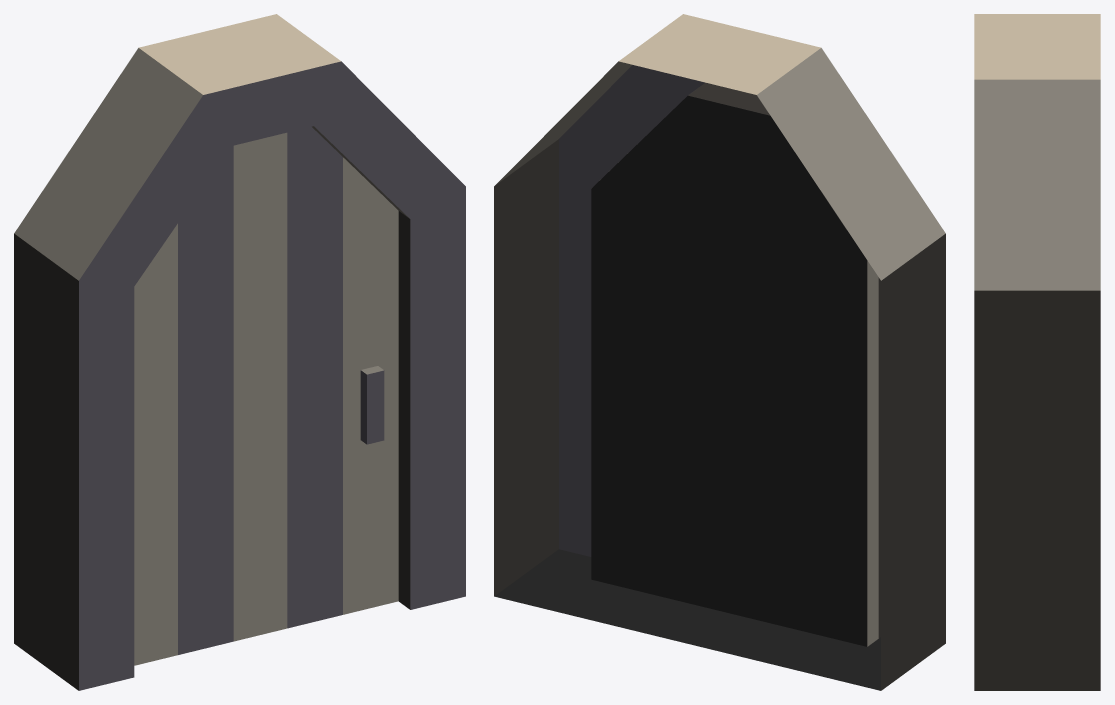
The model's file is TB_D_Bd_Arch_DoorSet_C.FBX.
3 renders of one model, left to right at view 1: azimuth 30°, elevation 25°; view 2: azimuth 150°, elevation 25°; view 3: azimuth 270°, elevation 25°, orthographic. The views are drawn at different scales.
Visible parts, largest first — view 1: TB_D_Bd_Arch_DoorSet_C, TB_D_Bd_Arch_Door_C; view 2: TB_D_Bd_Arch_DoorSet_C, TB_D_Bd_Arch_Door_C; view 3: TB_D_Bd_Arch_DoorSet_C.
Part boxes in pixels (bbox=[...]): TB_D_Bd_Arch_DoorSet_C: bbox=[14, 14, 465, 690]; TB_D_Bd_Arch_Door_C: bbox=[134, 126, 398, 665]; TB_D_Bd_Arch_DoorSet_C: bbox=[494, 14, 945, 690]; TB_D_Bd_Arch_Door_C: bbox=[591, 96, 878, 646]; TB_D_Bd_Arch_DoorSet_C: bbox=[974, 14, 1100, 690].
Bounding box in the file's own units: 1.4 × 1.95 × 0.4047.
